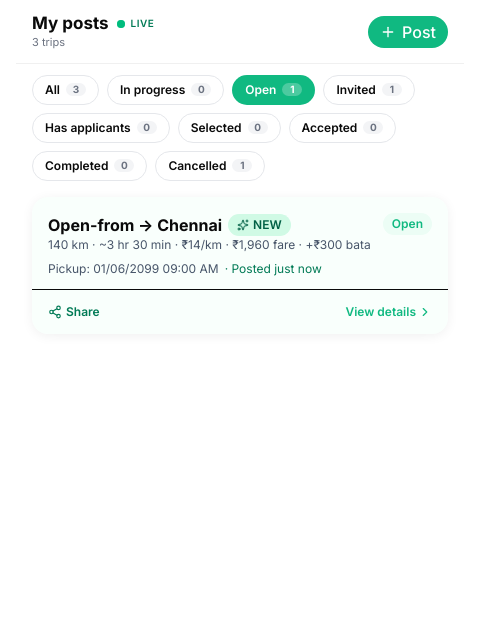
Scenario: PostedTripsPage › All sorts trips by lifecycle priority (open → invited → has_applicants → … → cancelled)
Click the button "All 3": (66, 90) [32, 75, 99, 105]
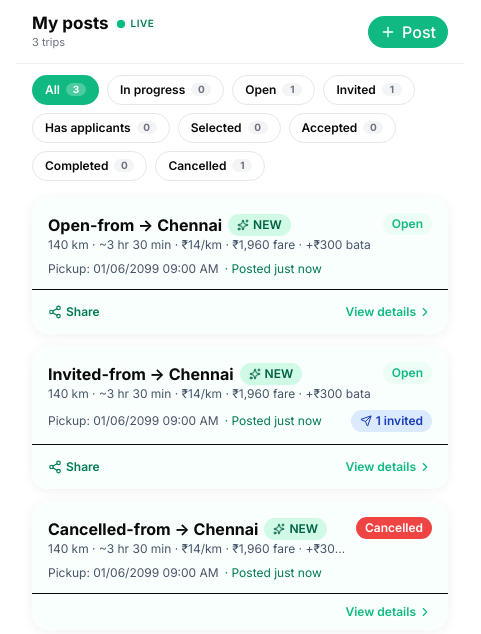
Expected: the text "Open-from → Chennai" is shown, [48, 213, 222, 237]
Now the text "Invited-from → Chennai" is shown, box [48, 362, 234, 386]
Now the text "Cancelled-from → Chennai" is shown, box [48, 517, 258, 541]
